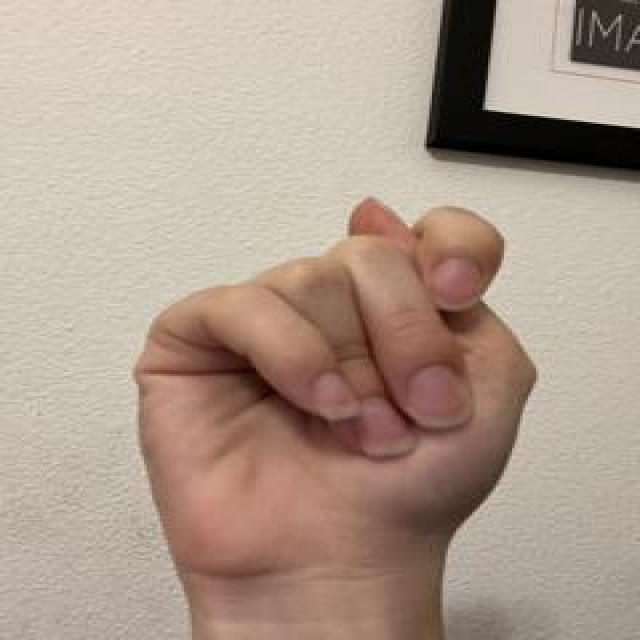T: (127, 188, 548, 584)
